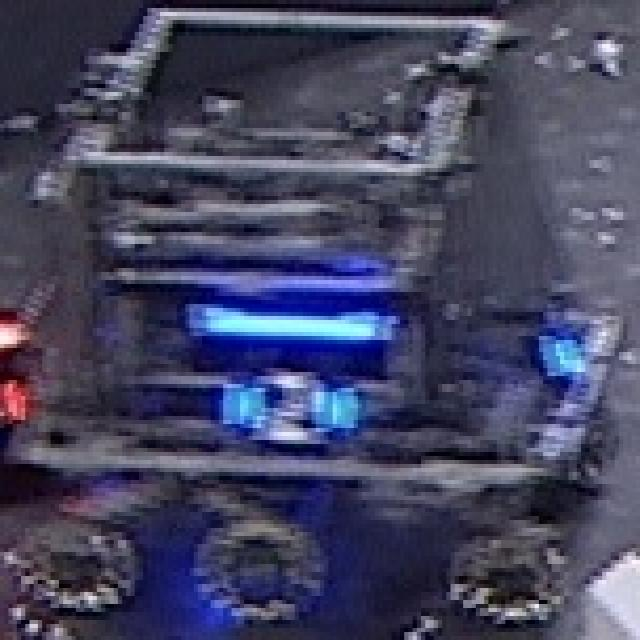B2: (219, 360, 362, 456)
